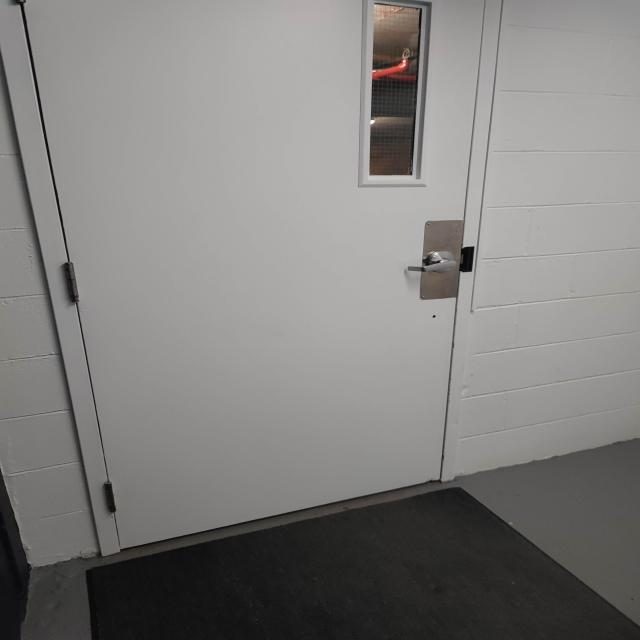door-handle: (408, 250, 457, 272)
